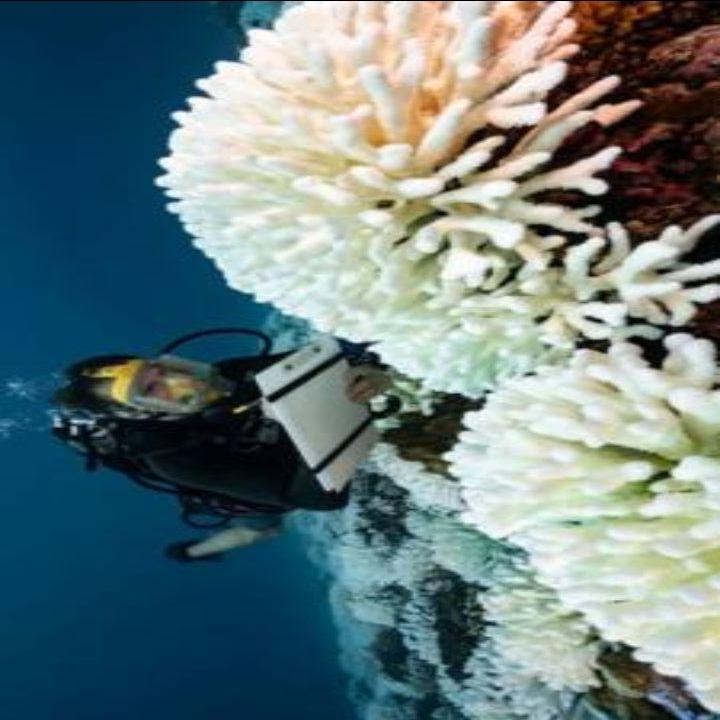Bleached disease: (183, 1, 675, 376), (345, 211, 715, 703)
